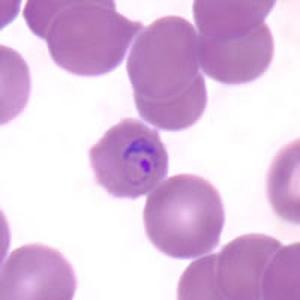Infected: (90, 119, 171, 203)
Uninfected: (42, 8, 145, 76), (146, 171, 222, 258), (128, 17, 200, 103), (218, 230, 294, 300), (194, 18, 274, 83), (136, 55, 207, 127), (0, 244, 74, 300), (193, 0, 283, 41)
